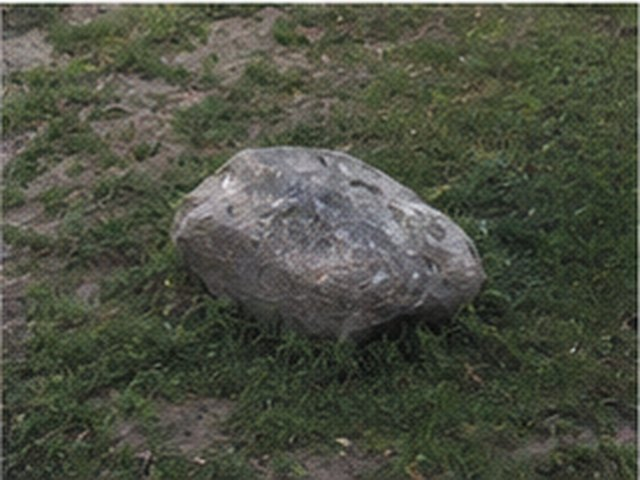tower: (172, 147, 484, 339)
